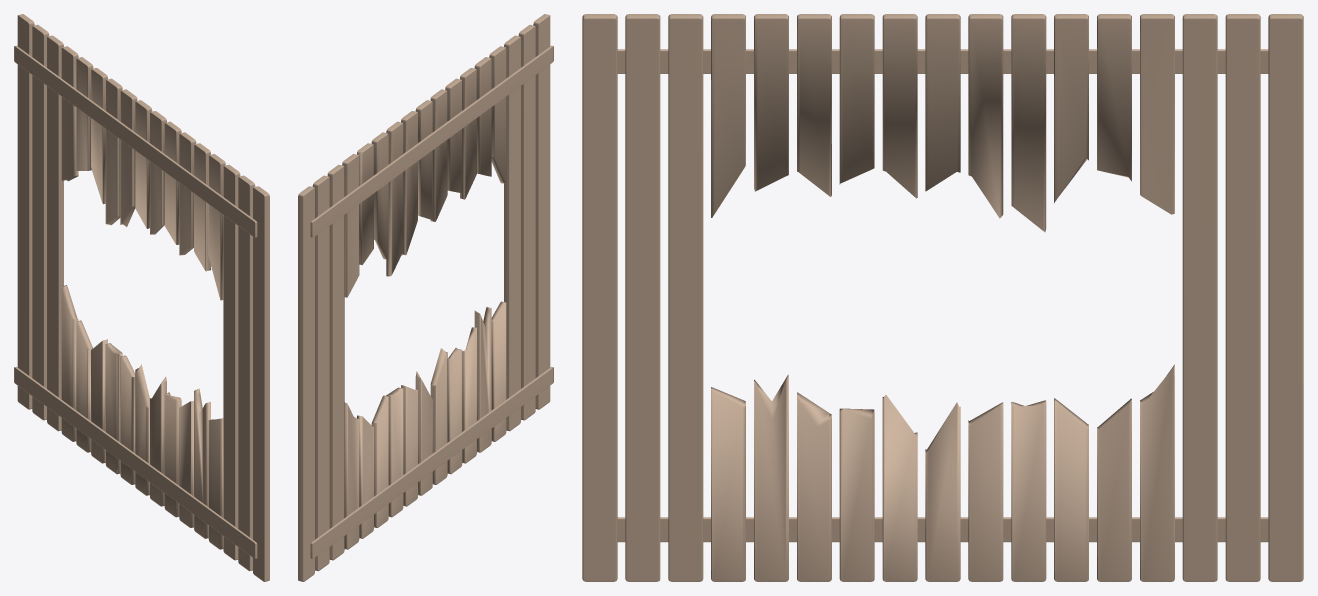
Rendered from broken_floor.fbx.
3 renders of one model, left to right at view 1: azimuth 30°, elevation 25°; view 2: azimuth 150°, elevation 25°; view 3: azimuth 270°, elevation 25°, orthographic. The views are drawn at different scales.
Parts seen in each view (by area): view 1: ThinHalfWall.001; view 2: ThinHalfWall.001; view 3: ThinHalfWall.001.
Part boxes in pixels (x1=…): ThinHalfWall.001: x1=14, y1=14, x2=269, y2=581; ThinHalfWall.001: x1=298, y1=14, x2=553, y2=581; ThinHalfWall.001: x1=582, y1=14, x2=1303, y2=581.
Bounding box in the file's own units: 0.0577 × 1.79 × 2.08.
